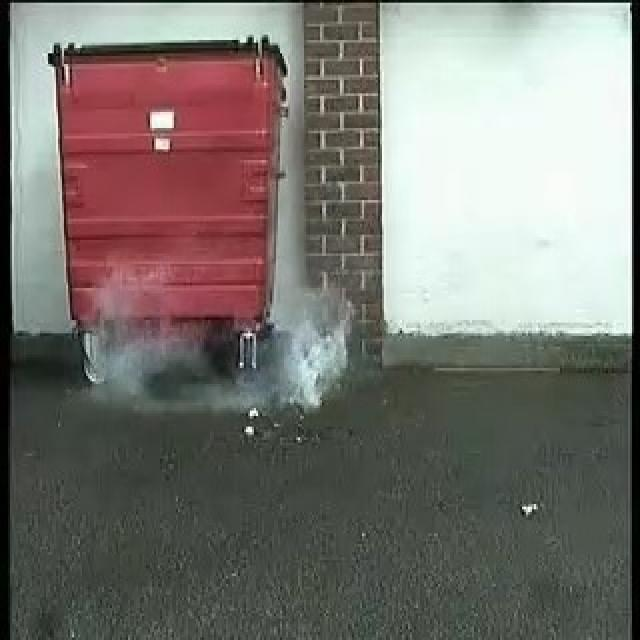smoke: (269, 276, 352, 404)
